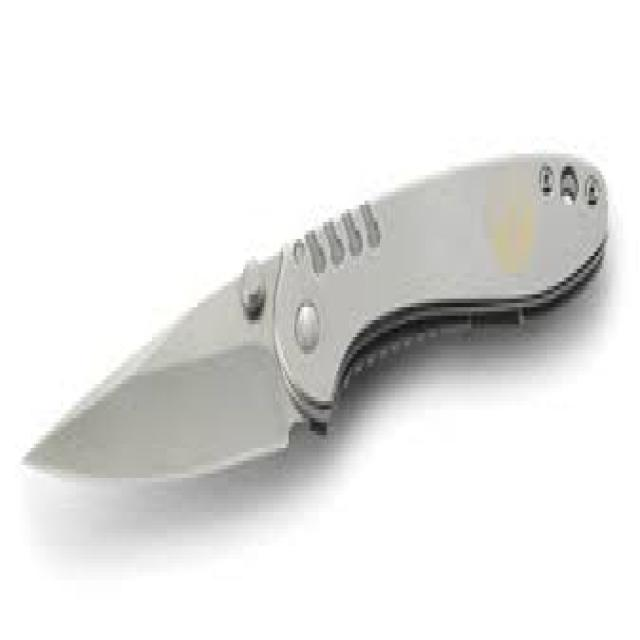knife: (24, 148, 619, 510)
